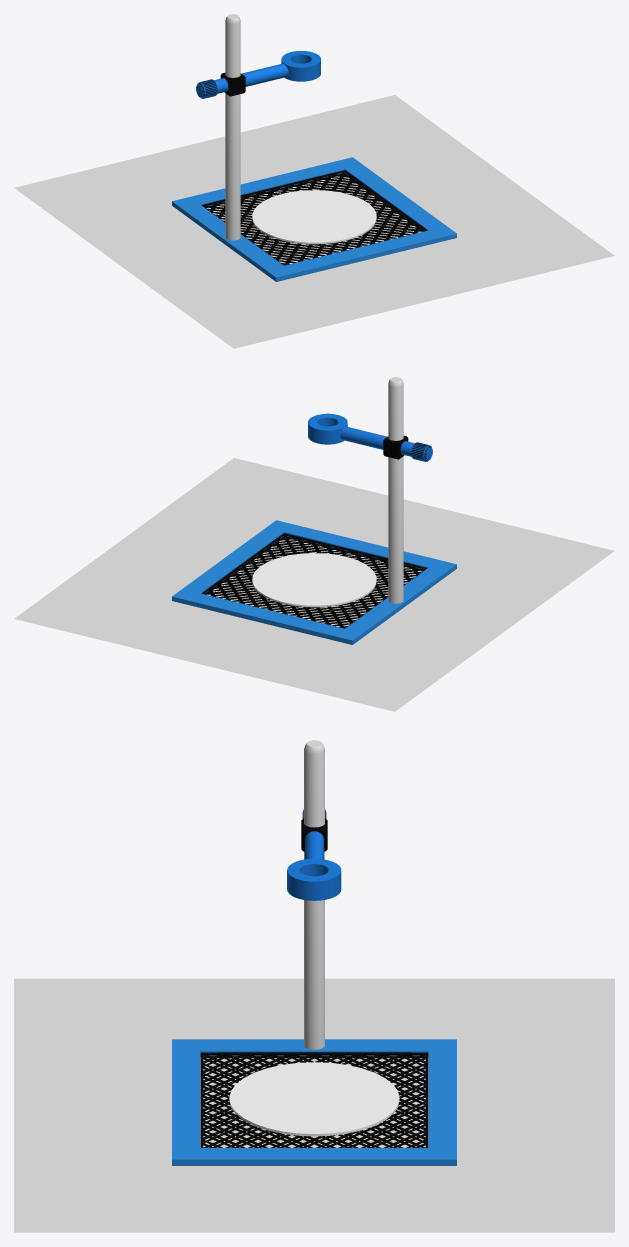
Rendered from jaring dan kaca.fbx.
3 views of the same model, one above another, from view 1: azimuth 30°, elevation 25°; view 2: azimuth 150°, elevation 25°; view 3: azimuth 270°, elevation 25° (orthographic). The views are drawn at different scales.
Visible parts, largest first — view 1: Plane, penahan, jaring, kaca, penahan02, tempat termometer; view 2: Plane, penahan, jaring, kaca, penahan02, tempat termometer; view 3: Plane, penahan, jaring, kaca, penahan02, tempat termometer.
Part boxes in pixels (box(x1,y1,x2,y2)): Plane: box(14, 95, 614, 348); penahan: box(172, 157, 456, 281); jaring: box(201, 170, 426, 265); kaca: box(252, 190, 376, 244); penahan02: box(225, 14, 240, 240); tempat termometer: box(196, 51, 320, 98); Plane: box(14, 458, 614, 711); penahan: box(172, 520, 456, 644); jaring: box(202, 533, 427, 628); kaca: box(252, 553, 376, 607); penahan02: box(388, 377, 403, 603); tempat termometer: box(308, 413, 432, 461); Plane: box(14, 978, 614, 1232); penahan: box(172, 1039, 456, 1165); jaring: box(200, 1052, 428, 1147); kaca: box(229, 1062, 399, 1136); penahan02: box(304, 740, 324, 1049); tempat termometer: box(287, 809, 341, 900).
Bounding box in the file's own units: 1050 × 599 × 1050.
